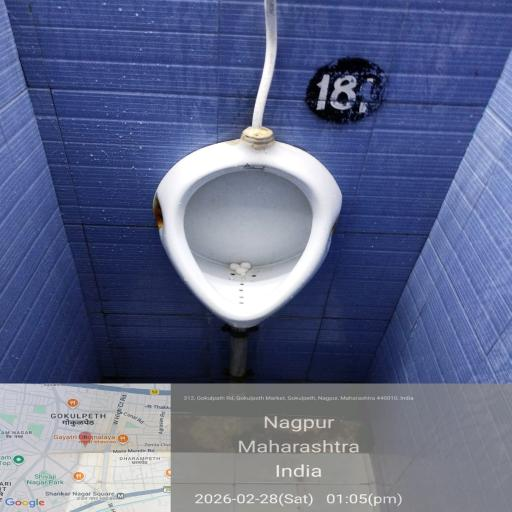clean_floor: (0, 3, 506, 134), (347, 134, 512, 364), (8, 149, 140, 367)
clean_urinal: (147, 152, 344, 310)
